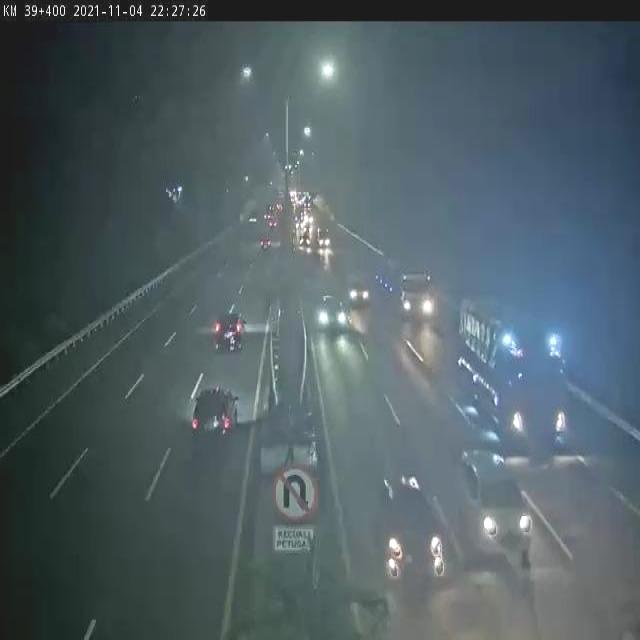Car: (456, 448, 534, 559), (377, 473, 447, 583), (189, 384, 243, 441), (316, 296, 352, 336), (212, 313, 246, 353), (347, 283, 369, 306), (260, 236, 273, 250), (298, 237, 312, 247)
Truck: (457, 294, 569, 442), (373, 253, 439, 321), (314, 222, 332, 247)
